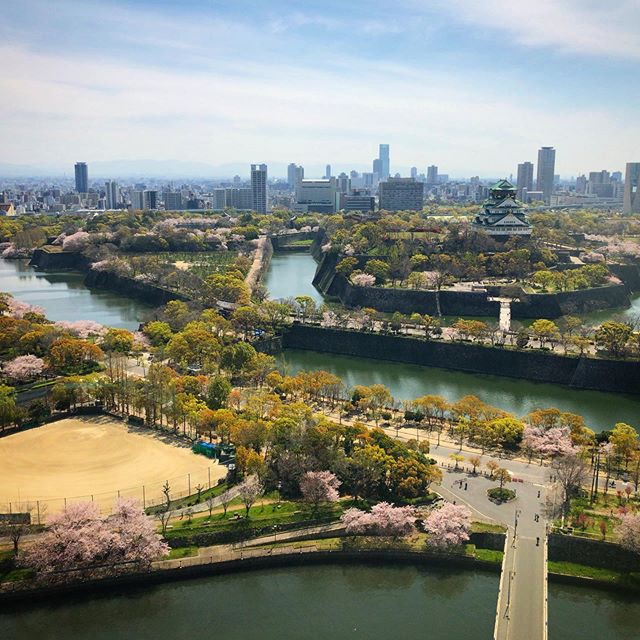building: (476, 181, 528, 248), (374, 173, 426, 212), (292, 172, 337, 217), (244, 161, 272, 213), (67, 160, 91, 190)
river: (12, 259, 640, 457), (1, 560, 624, 640), (360, 277, 640, 339), (248, 225, 335, 315)
sky: (5, 1, 640, 170)
